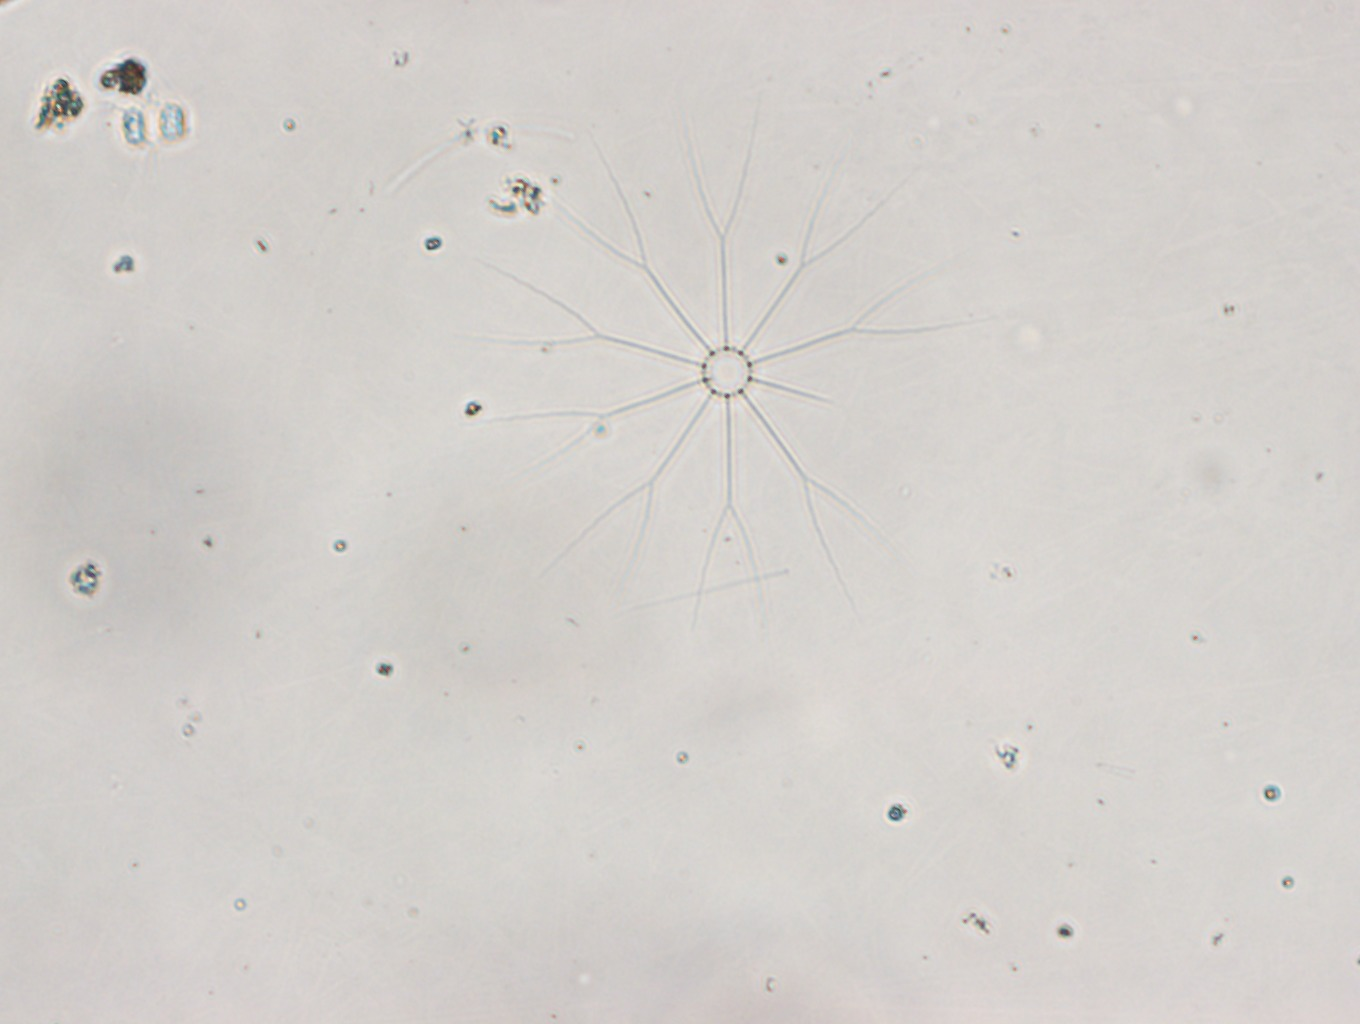bacteriastrum: (475, 101, 987, 622)
